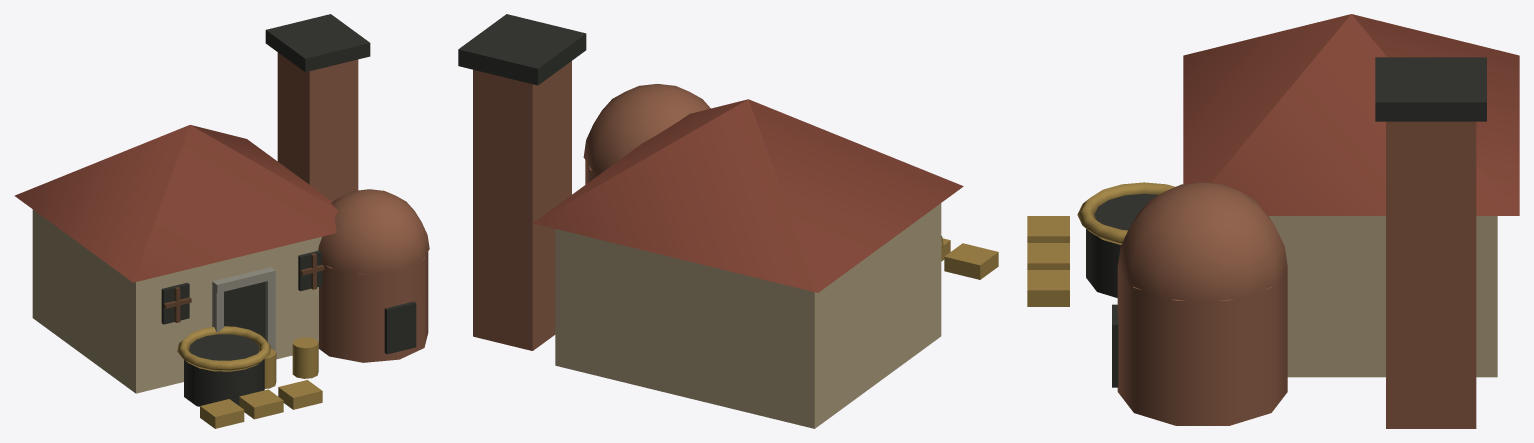
File: custom-imp-bronzeworks.glb
3 renders of one model, left to right at view 1: azimuth 30°, elevation 25°; view 2: azimuth 150°, elevation 25°; view 3: azimuth 270°, elevation 25°, orthographic. The views are drawn at different scales.
Parts seen in each view (by area): view 1: custom-imp-bronzeworks; view 2: custom-imp-bronzeworks; view 3: custom-imp-bronzeworks.
Boxes of the visible parts, bbox=[...] form: custom-imp-bronzeworks: bbox=[14, 14, 429, 428]; custom-imp-bronzeworks: bbox=[458, 14, 998, 428]; custom-imp-bronzeworks: bbox=[1027, 14, 1519, 428].
Bounding box in the file's own units: 1 × 0.736 × 0.988.
